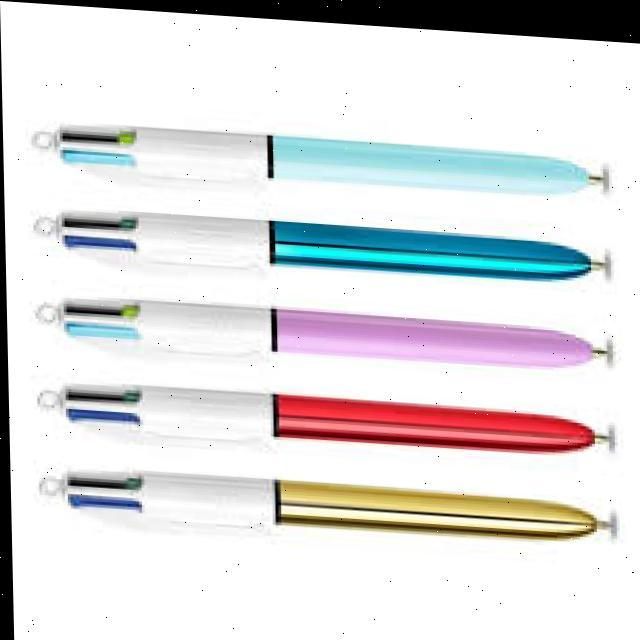pen: (28, 454, 618, 556), (31, 287, 614, 382), (30, 116, 611, 206), (30, 205, 607, 294), (36, 376, 617, 462)
